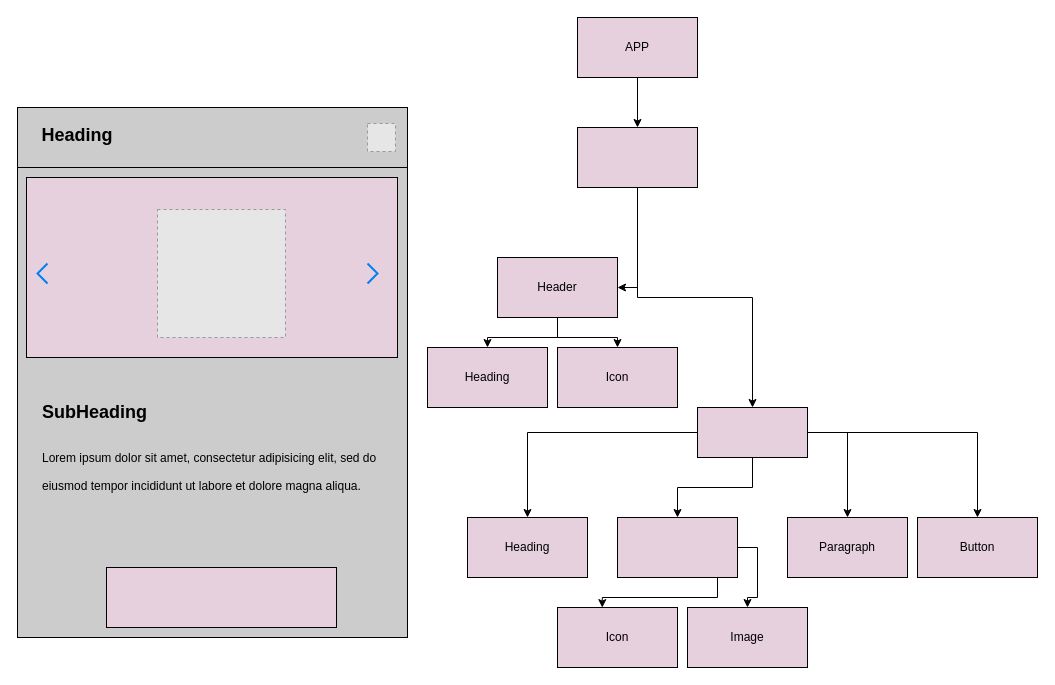
Image size: 1055x685. Some labels were removed from this diagram. Grey dashed boxes stand in for pictures. The shapes that lost their labels are listed below. From the top down, each one's box as (x1, y1, x2, y2) in pixels, then its label:
(576, 126, 698, 188): Modal
(696, 406, 808, 458): Body
(616, 516, 738, 578): Slider
(106, 566, 336, 628): Book
